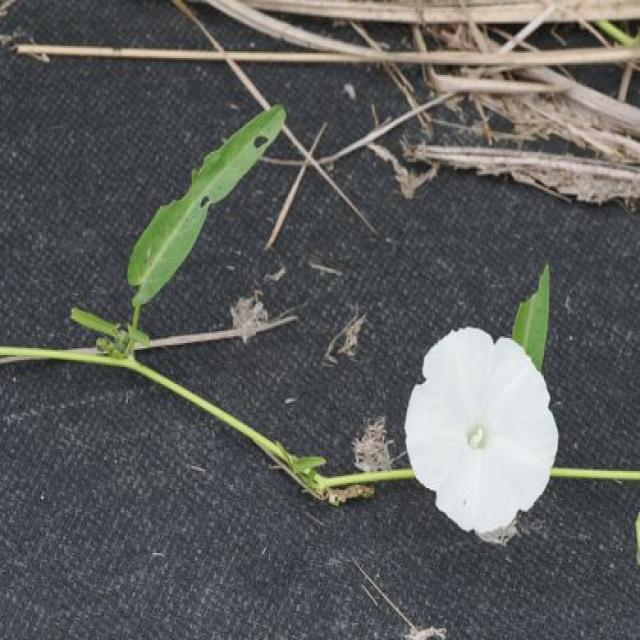ipomoea: (401, 323, 562, 541)
